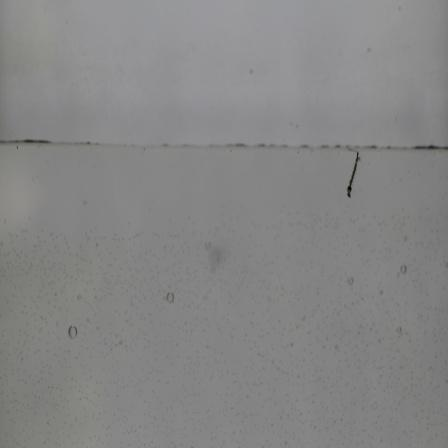Jentik-Nyamuk: (337, 149, 366, 201)
